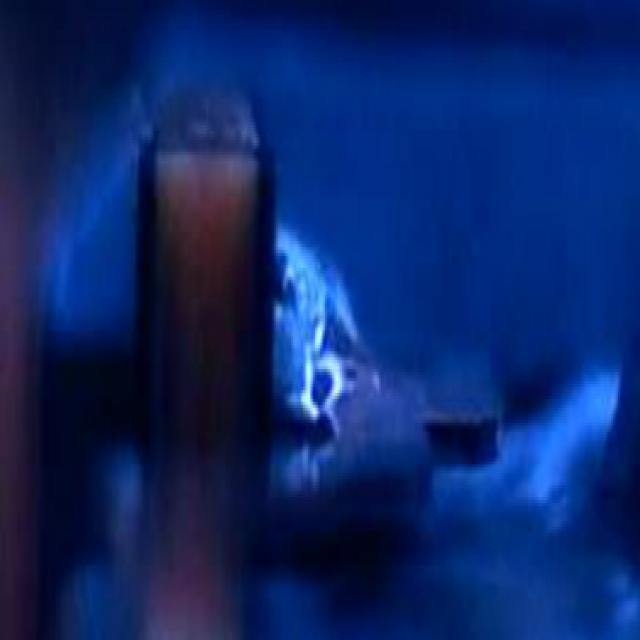No Good: (257, 197, 395, 461)
